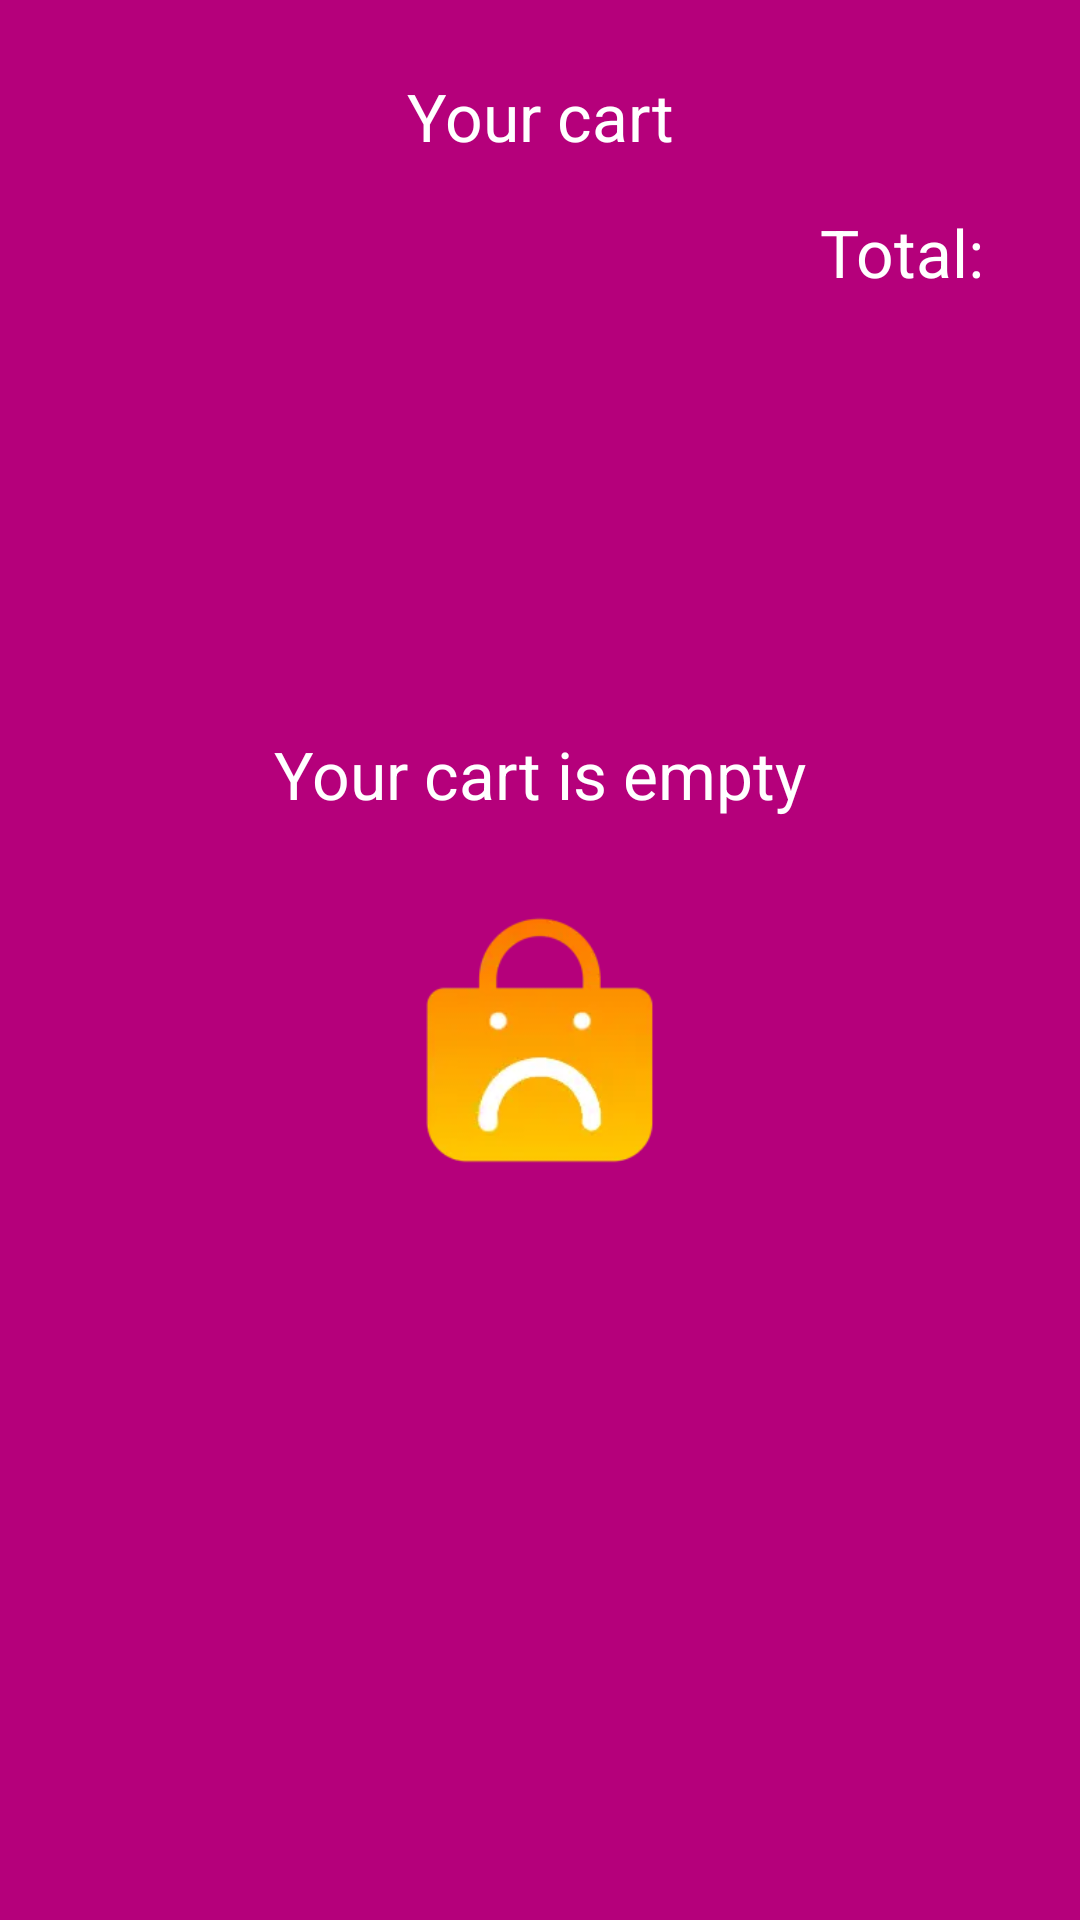

Where to tap for icons on this 1080*1920 app screen, as (x=x, y=y):
sad bag: (x=539, y=1040)
